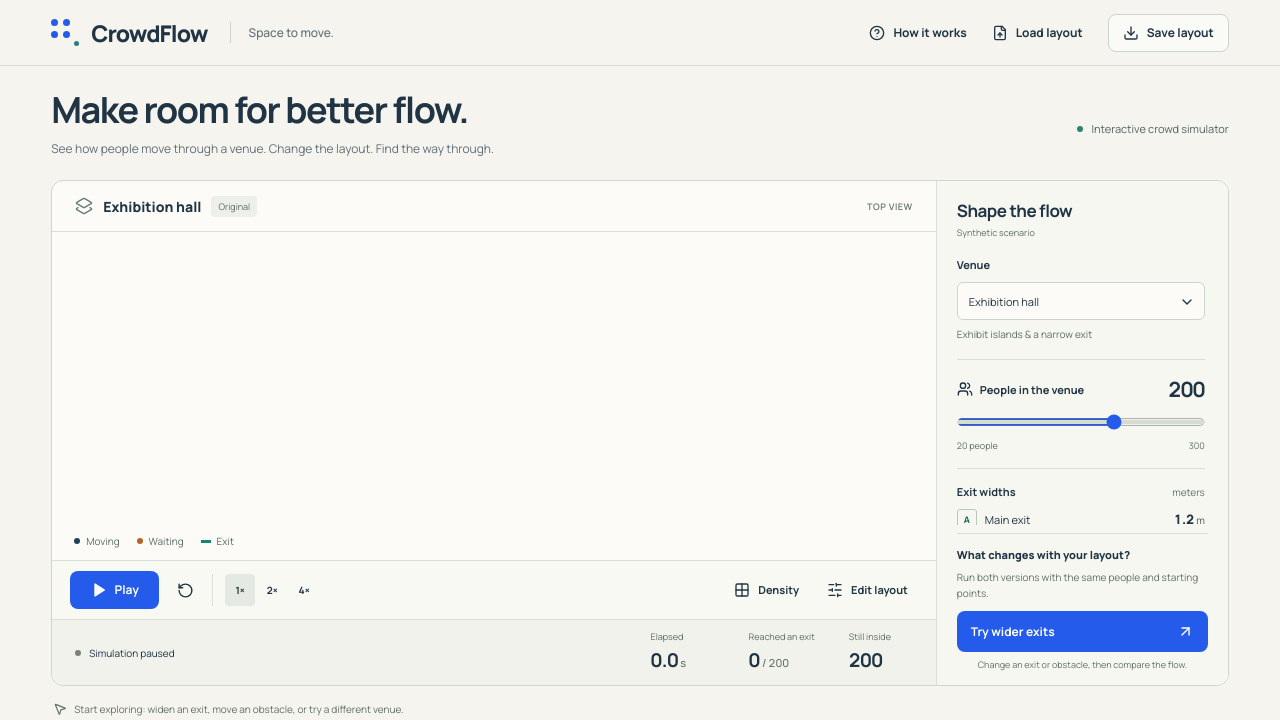
Test: simulator controls › restores the original exit width after an edit
This screenshot has width=1280, height=720.
Click the button "Try wider exits".
click(1082, 631)  # box left=957, top=611, right=1208, bottom=652
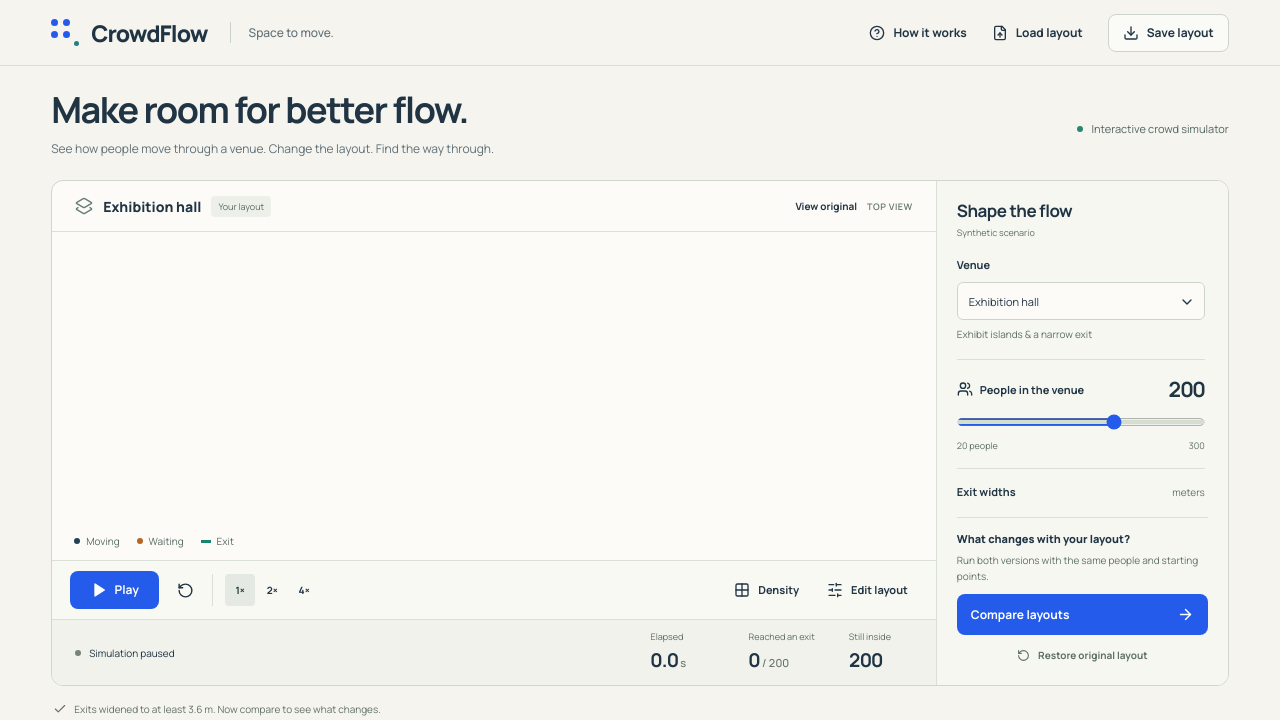
Click the button "Restore original layout".
click(1082, 656)  # box left=957, top=640, right=1208, bottom=671
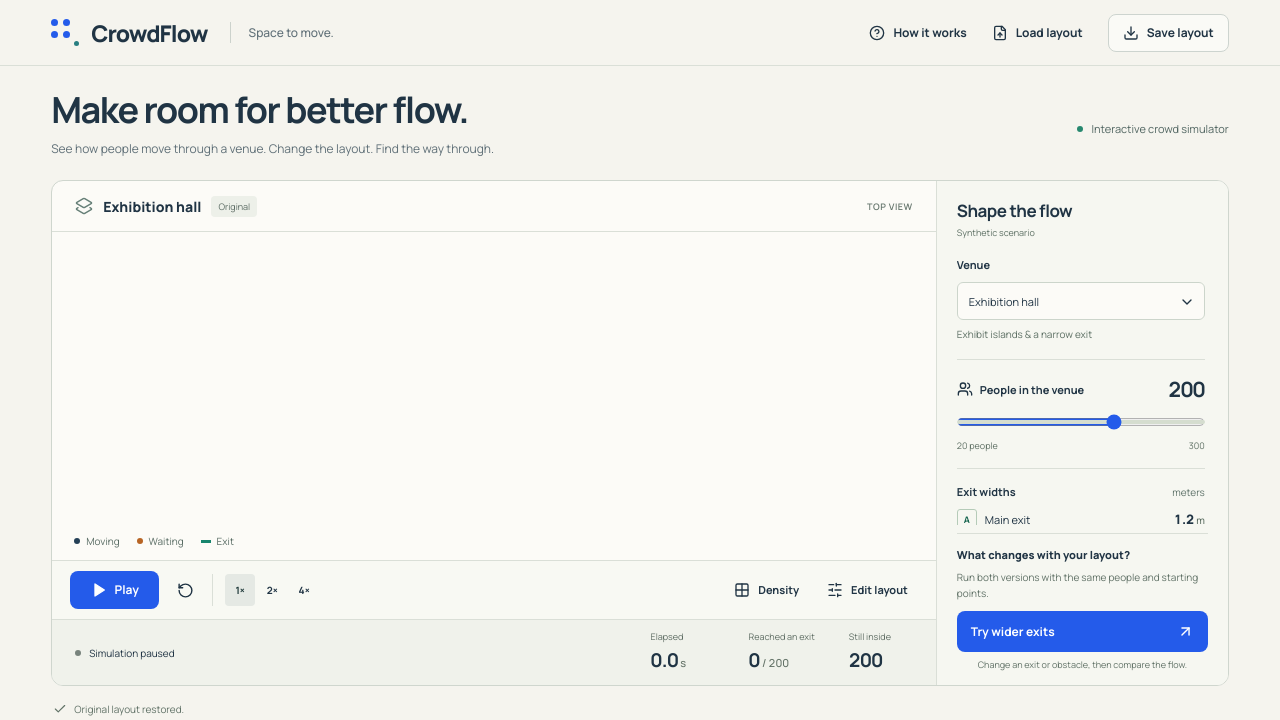
Now the button "View original" is gone
